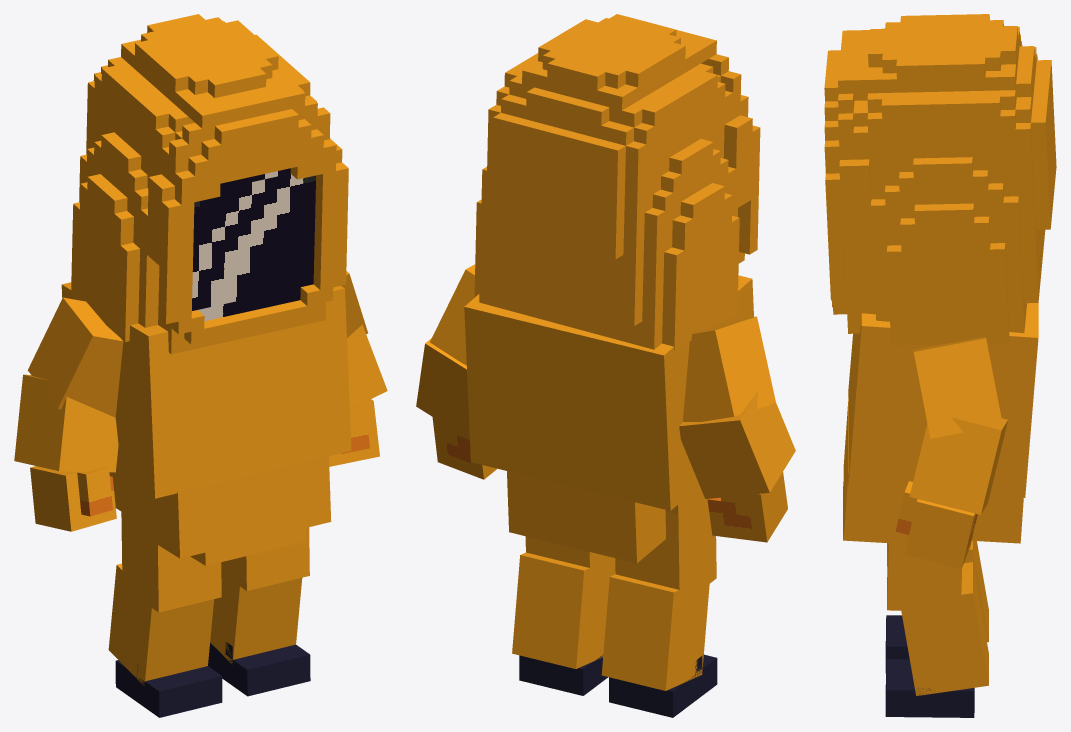
The model's file is Main1.fbx.
3 views of the same model, side by side, from view 1: azimuth 30°, elevation 25°; view 2: azimuth 150°, elevation 25°; view 3: azimuth 270°, elevation 25° (orthographic).
Parts seen in each view (by area): view 1: MainPlayer.007, MainPlayer.008, MainPlayer, MainPlayer.005, MainPlayer.004, MainPlayer.002, MainPlayer.001, MainPlayer.006, MainPlayer.003; view 2: MainPlayer.007, MainPlayer.008, MainPlayer.005, MainPlayer.002, MainPlayer, MainPlayer.001, MainPlayer.004, MainPlayer.006, MainPlayer.003; view 3: MainPlayer.007, MainPlayer.008, MainPlayer.005, MainPlayer.001, MainPlayer.002, MainPlayer, MainPlayer.004, MainPlayer.003, MainPlayer.006.
Boxes of the visible parts, bbox=[...] form: MainPlayer.007: bbox=[71, 14, 348, 354]; MainPlayer.008: bbox=[61, 282, 351, 498]; MainPlayer: bbox=[109, 454, 331, 565]; MainPlayer.005: bbox=[108, 563, 302, 685]; MainPlayer.004: bbox=[121, 495, 309, 612]; MainPlayer.002: bbox=[14, 324, 387, 472]; MainPlayer.001: bbox=[27, 271, 367, 417]; MainPlayer.006: bbox=[115, 642, 310, 717]; MainPlayer.003: bbox=[30, 399, 379, 531]; MainPlayer.007: bbox=[474, 14, 760, 350]; MainPlayer.008: bbox=[464, 275, 753, 510]; MainPlayer.005: bbox=[512, 552, 709, 690]; MainPlayer.002: bbox=[416, 338, 795, 498]; MainPlayer: bbox=[507, 471, 708, 563]; MainPlayer.001: bbox=[430, 264, 775, 421]; MainPlayer.004: bbox=[525, 502, 716, 606]; MainPlayer.006: bbox=[519, 654, 717, 717]; MainPlayer.003: bbox=[432, 417, 787, 542]; MainPlayer.007: bbox=[824, 14, 1056, 345]; MainPlayer.008: bbox=[848, 303, 1038, 497]; MainPlayer.005: bbox=[901, 540, 988, 695]; MainPlayer.001: bbox=[913, 336, 1002, 438]; MainPlayer.002: bbox=[909, 417, 1007, 514]; MainPlayer: bbox=[843, 398, 1023, 543]; MainPlayer.004: bbox=[887, 516, 962, 611]; MainPlayer.003: bbox=[895, 481, 977, 568]; MainPlayer.006: bbox=[885, 615, 974, 717].
Size of the model in its own units: 2764 by 4807 by 1572.
Materials: 1 (1 with a texture image).
